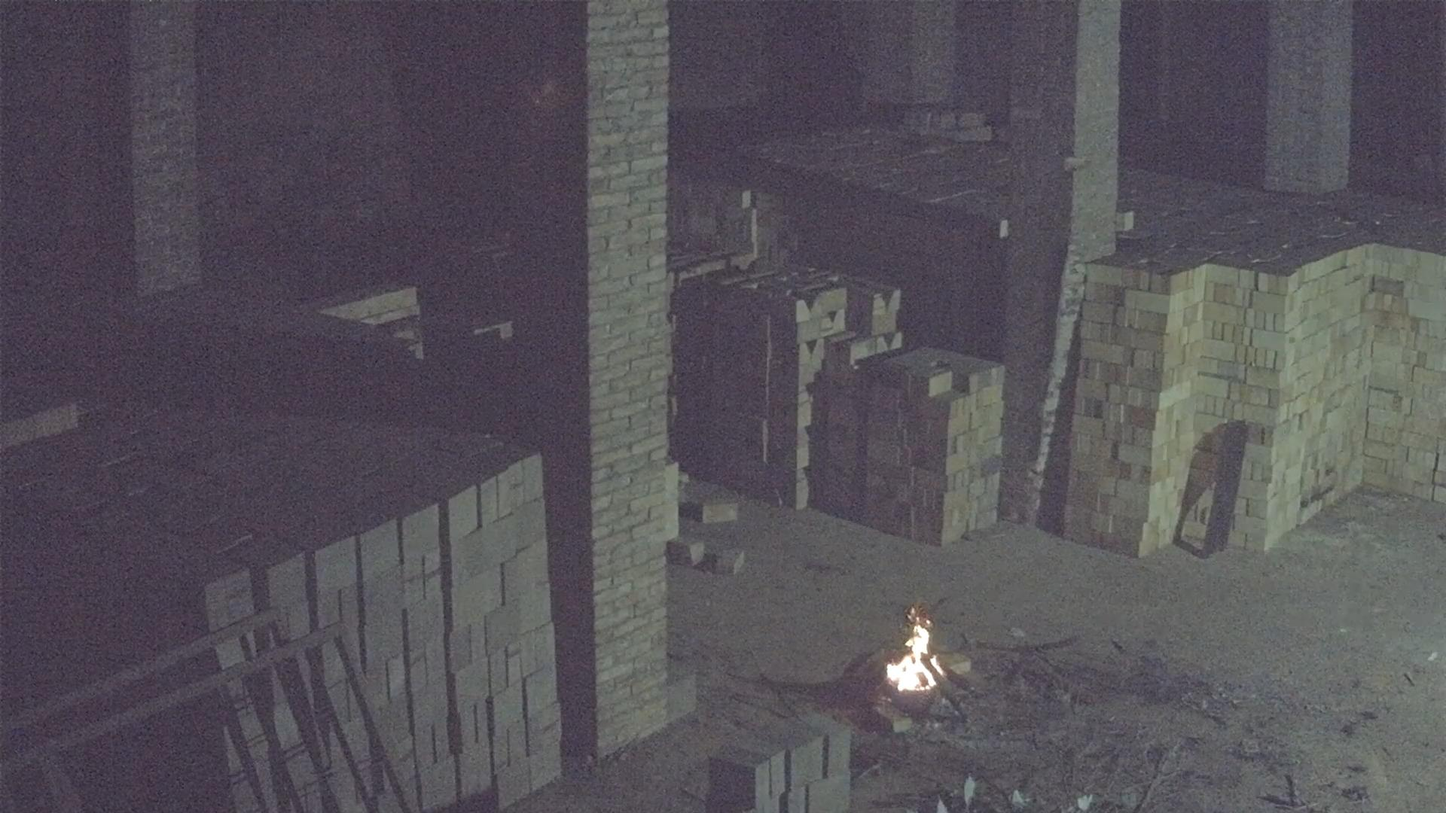fire: (887, 616, 944, 692)
